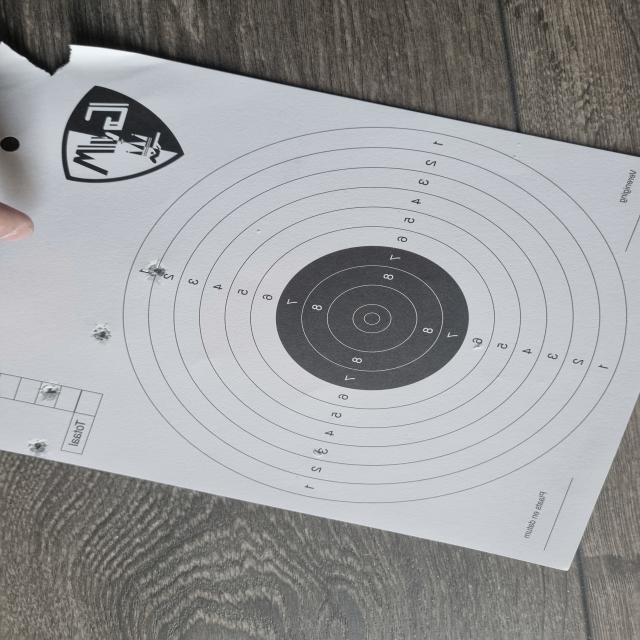0: (37, 384, 60, 401), (92, 324, 111, 342), (28, 440, 47, 453)
2: (145, 260, 168, 280)
Target: (118, 126, 628, 506)
black_contour: (274, 246, 470, 392)
